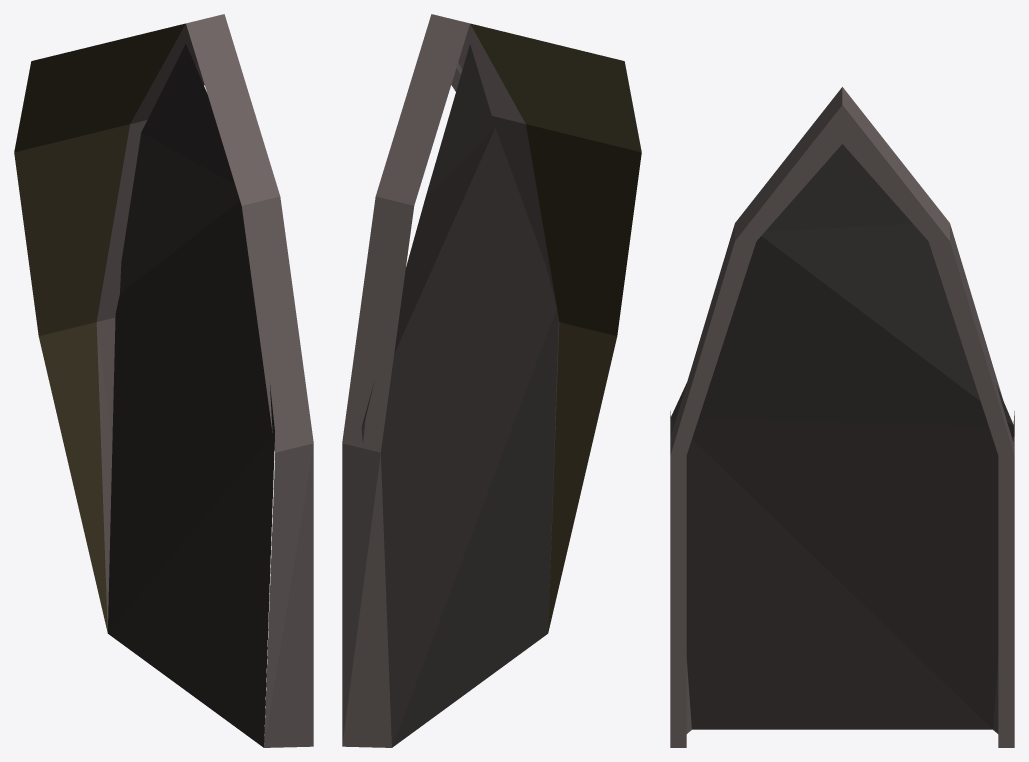
File: obj_ancient_gate_8_0.obj
The picture shows the model from 3 angles, left to right: view 1: azimuth 30°, elevation 25°; view 2: azimuth 150°, elevation 25°; view 3: azimuth 270°, elevation 25°; orthographic projection. The views are drawn at different scales.
Size of the model in its own units: 1.25 by 4.12 by 2.
